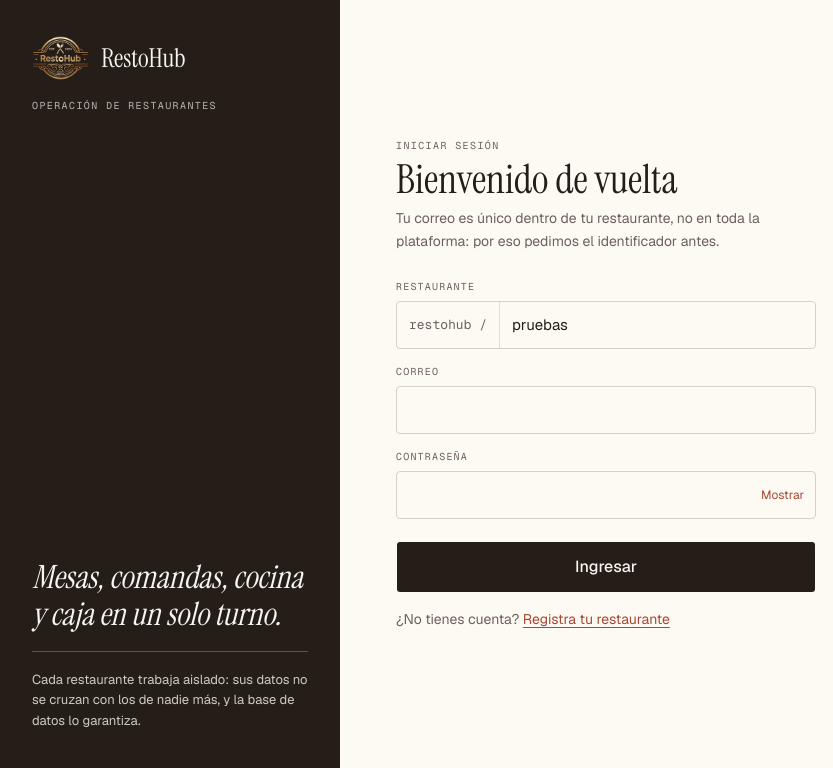
Test: formulario de login › tras un 429 también borra la contraseña y muestra el aviso de bloqueo del servidor
This screenshot has width=833, height=768.
Type "mesero@pruebas.com" into the field labelled "Correo".
click(606, 410); type("mesero@pruebas.com")  # box [396,386,816,434]
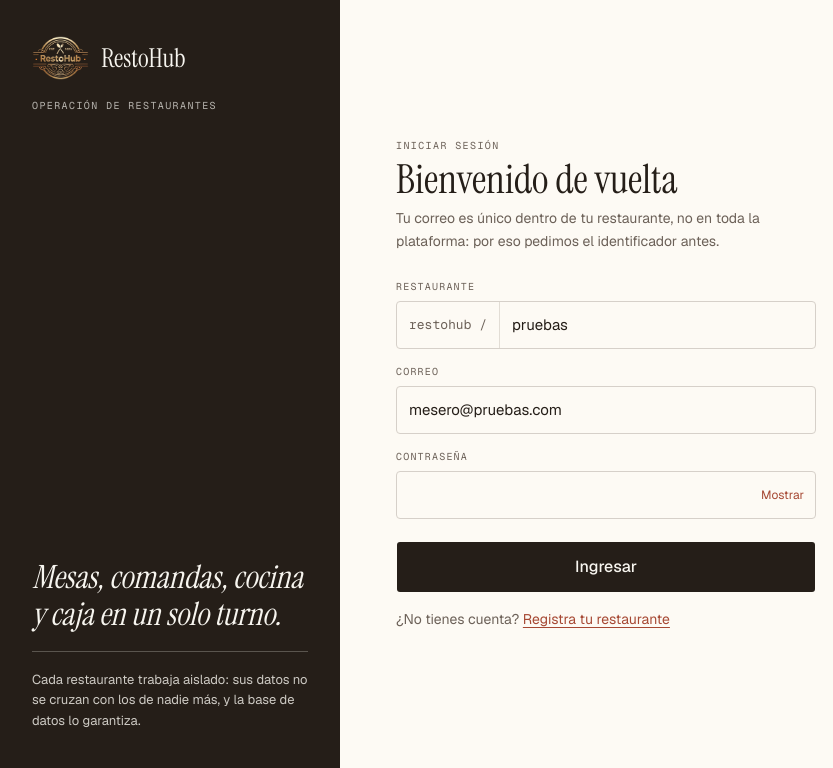
Type "Clave-Erronea-2026" into the password field labelled "Contraseña".
click(606, 495); type("Clave-Erronea-2026")  # box [396,471,816,519]
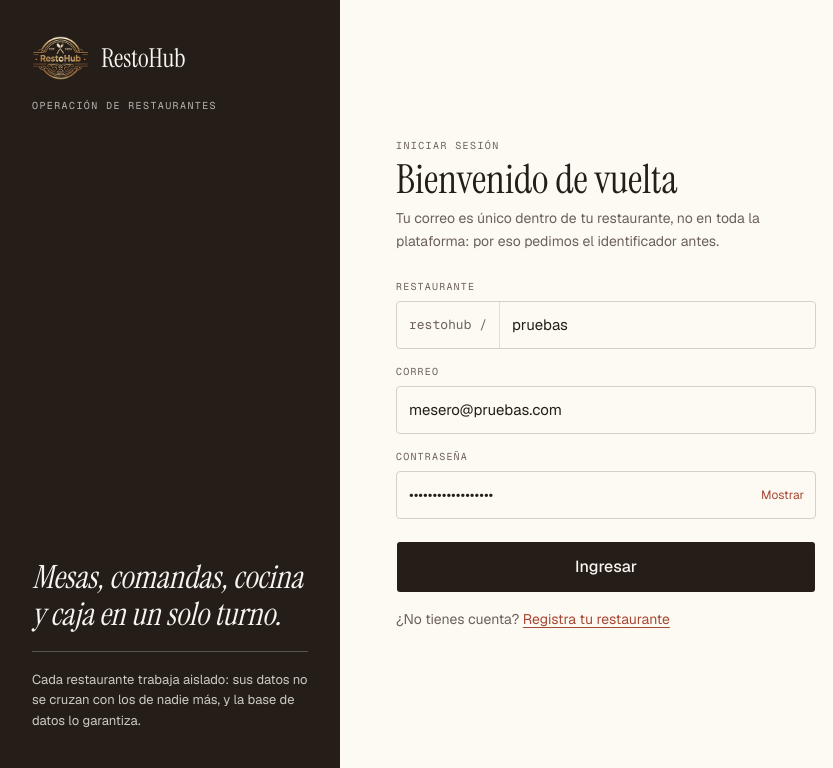
Click the button "Ingresar".
click(606, 567)  # box [396,541,816,593]
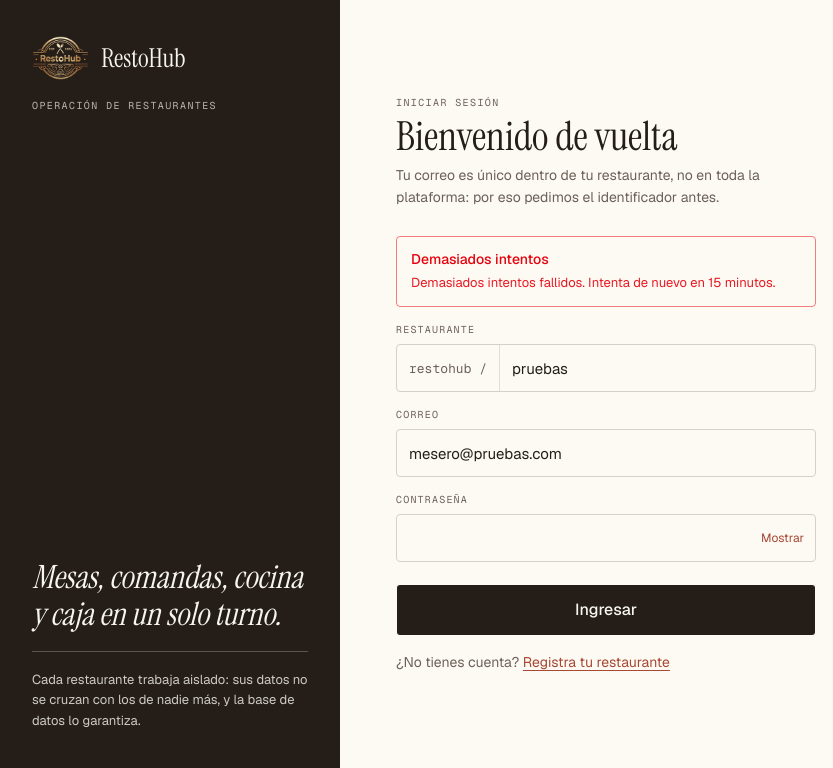
Now the text "Demasiados intentos fallidos. Intenta de nuevo en 15 minutos." is shown, box [411,274,801,294]
Now the text "Demasiados intentos" is shown, box [411,250,549,268]
Now the password field labelled "Contraseña" is empty, box [396,514,816,562]
